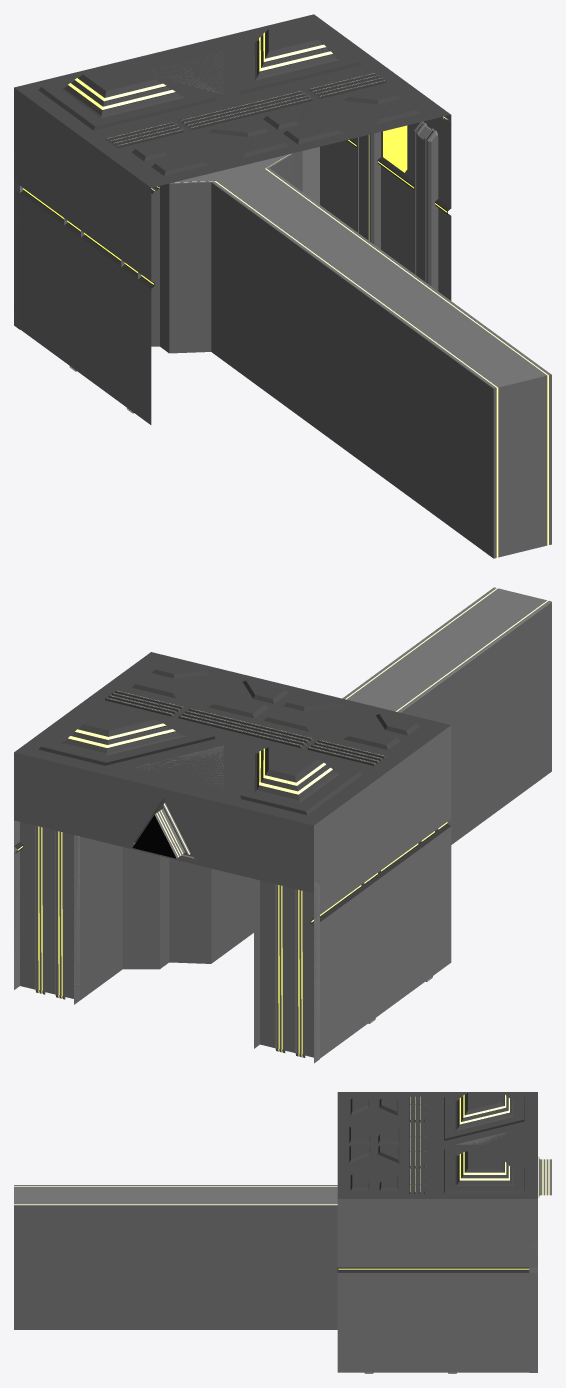
Rendered from Map2.fbx.
3 renders of one model, top to bottom at view 1: azimuth 30°, elevation 25°; view 2: azimuth 150°, elevation 25°; view 3: azimuth 270°, elevation 25°, orthographic. The views are drawn at different scales.
Parts seen in each view (by area): view 1: Floor, Wall.001, Roof2, Column.002, Column.001, Column, Screen; view 2: Wall.001, Floor, Roof2, Column, Window, LightCenter; view 3: Floor, Wall.001, Roof2, Window.
Part boxes in pixels (bbox=[...]): Floor: bbox=[151, 151, 551, 558]; Wall.001: bbox=[14, 88, 451, 424]; Roof2: bbox=[14, 14, 450, 187]; Column.002: bbox=[121, 121, 438, 413]; Column.001: bbox=[64, 132, 380, 371]; Column: bbox=[14, 146, 319, 329]; Screen: bbox=[383, 125, 407, 172]; Wall.001: bbox=[14, 725, 451, 1062]; Floor: bbox=[74, 587, 551, 1048]; Roof2: bbox=[14, 652, 450, 825]; Column: bbox=[14, 821, 319, 1063]; Window: bbox=[132, 798, 194, 858]; LightCenter: bbox=[136, 745, 223, 788]; Floor: bbox=[14, 1185, 337, 1329]; Wall.001: bbox=[337, 1199, 537, 1372]; Roof2: bbox=[337, 1092, 537, 1198]; Window: bbox=[538, 1156, 551, 1197].
Bounding box in the file's own units: 924 × 770 × 1964.
Materials: 14 (1 with a texture image).
